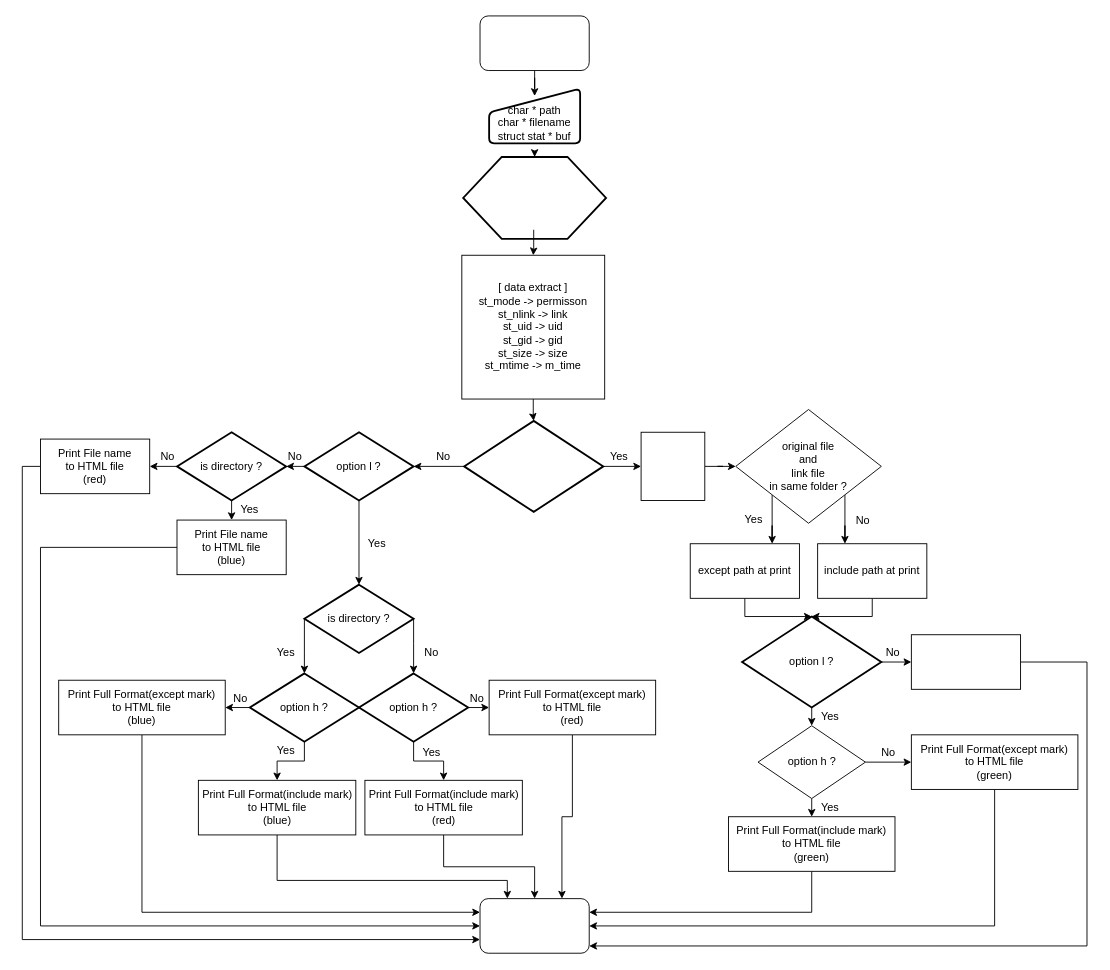
Some shapes in this 1110 by 970 pixel diagram are drawn without their labels. The centre of each missing label's shape, as x and y in pixels:
End: (534,925)
is symbollic link ?: (533,466)
Print File name to HTML file (green): (965,661)
realpath -> linkpath: (672,465)
Start: (534,43)
struct file_format f_stat char * p_path;: (534,197)
